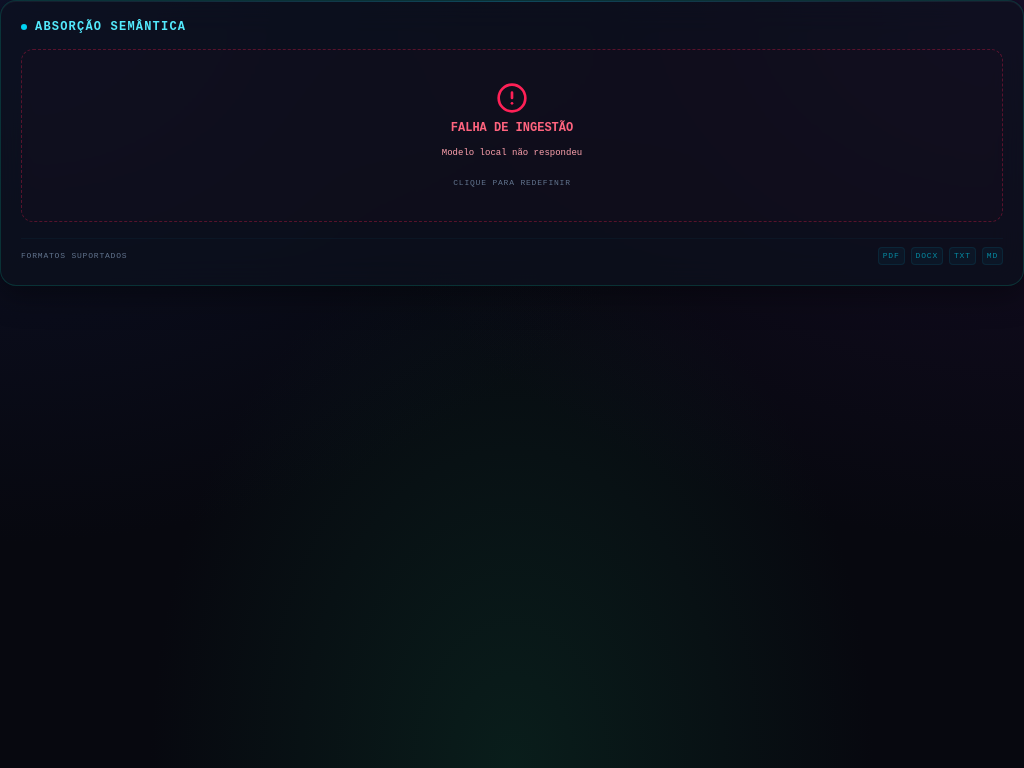
AbsorcaoCognitiva · progresso via WebSocket › mostra a falha relatada pelo pipeline e permite redefinir
Expected: the text "Falha de Ingestão" is shown, [451,122,573,134]
Expected: the text "Modelo local não respondeu" is shown, [442,146,582,161]
Click the text "Clique para redefinir" at (512,183), box [453,177,571,189]
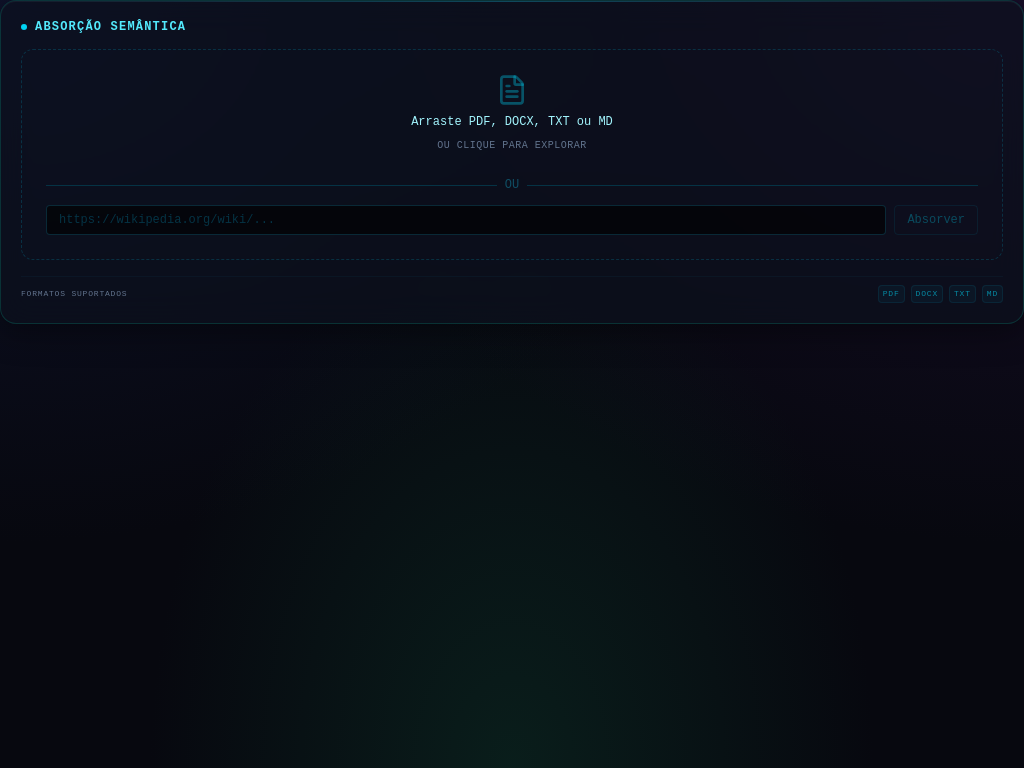
Expected: the text "Arraste PDF, DOCX, TXT ou MD" is shown, [411,114,613,130]
